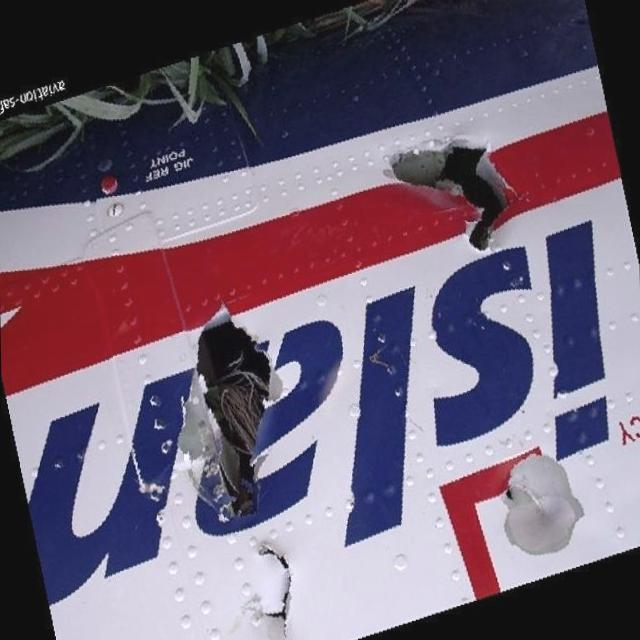crack: (173, 294, 280, 520), (385, 126, 517, 258), (252, 540, 296, 636), (497, 472, 548, 519)
